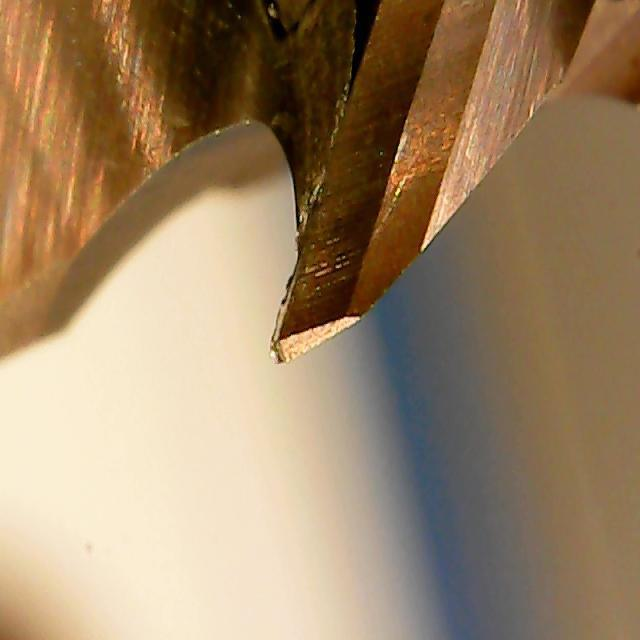Tool-wear-class-1: (262, 45, 426, 382)
